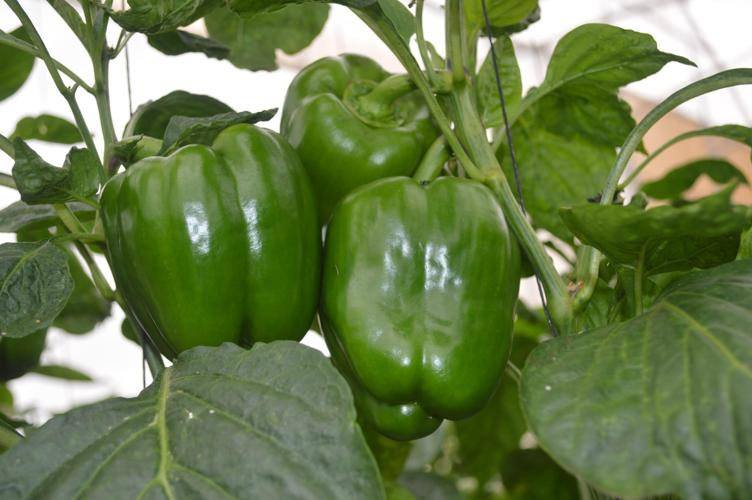BellPepper: (318, 182, 521, 436), (96, 125, 320, 349), (279, 52, 448, 200)
